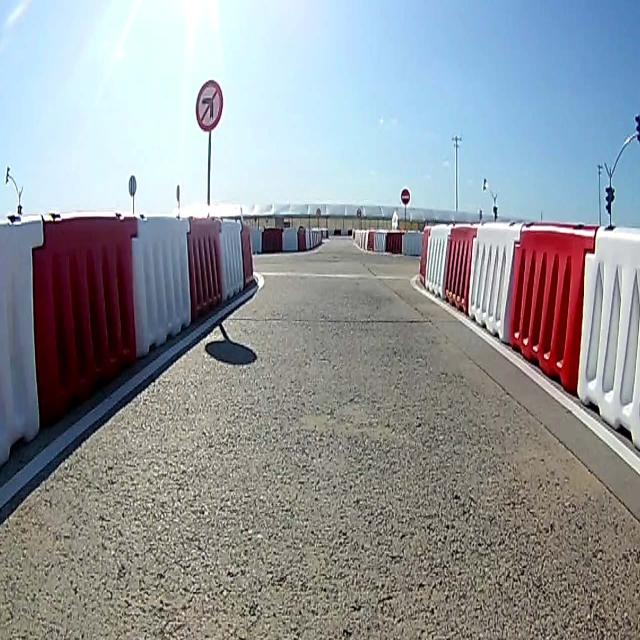girisyok: (400, 183, 410, 207)
soladonulmez: (193, 77, 225, 132)
